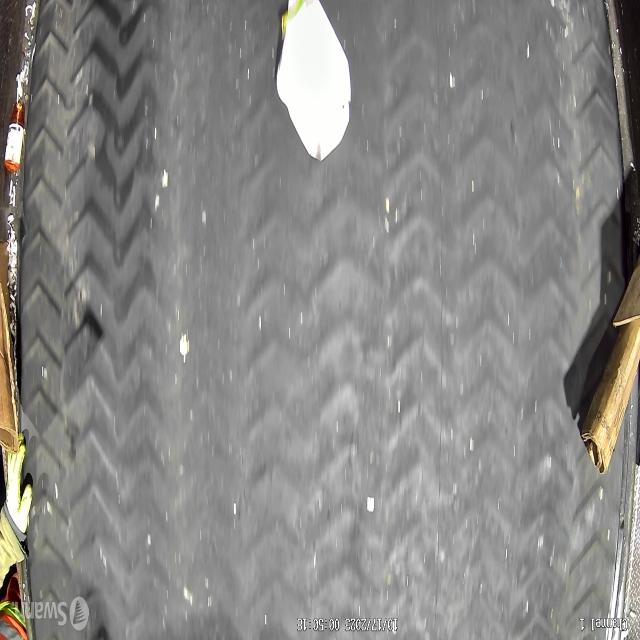milk_jug: (276, 0, 351, 163)
